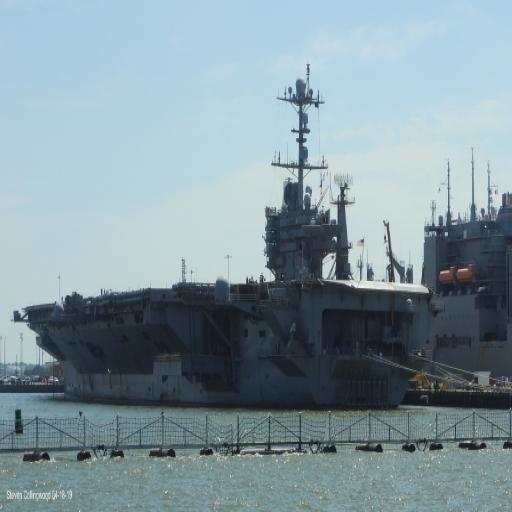Portanaves: (6, 59, 431, 411)
